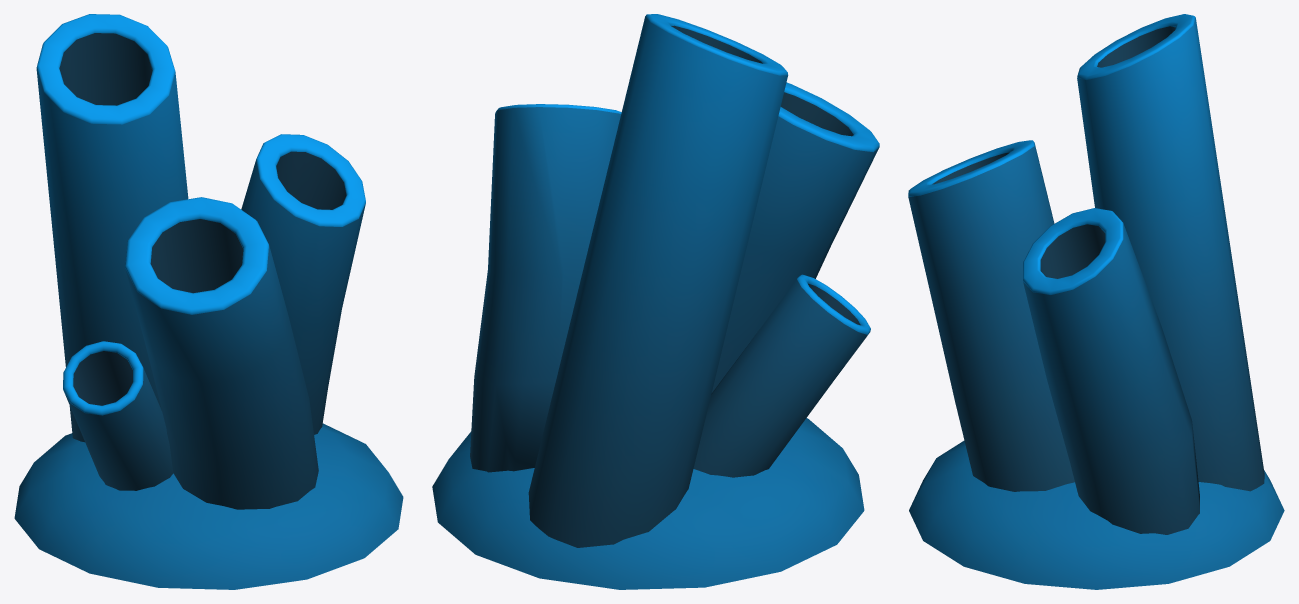
The model's file is M_Moss.fbx.
3 views of the same model, side by side, from view 1: azimuth 30°, elevation 25°; view 2: azimuth 150°, elevation 25°; view 3: azimuth 270°, elevation 25° (orthographic). The views are drawn at different scales.
Visible parts, largest first — view 1: M_moss; view 2: M_moss; view 3: M_moss.
Boxes of the visible parts, box(x1,y1,x2,y2) form: M_moss: box(14, 14, 403, 589); M_moss: box(432, 14, 879, 589); M_moss: box(908, 14, 1284, 589).
Size of the model in its own units: 343 by 457 by 343.
